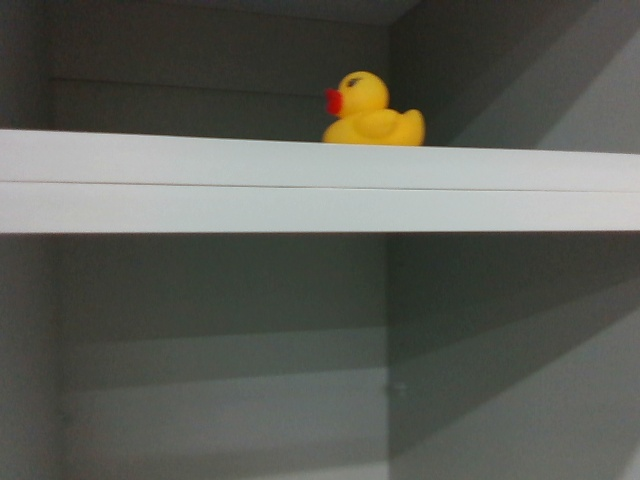duck: (320, 64, 427, 149)
